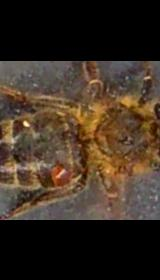varroa_mite: (49, 160, 70, 191)
